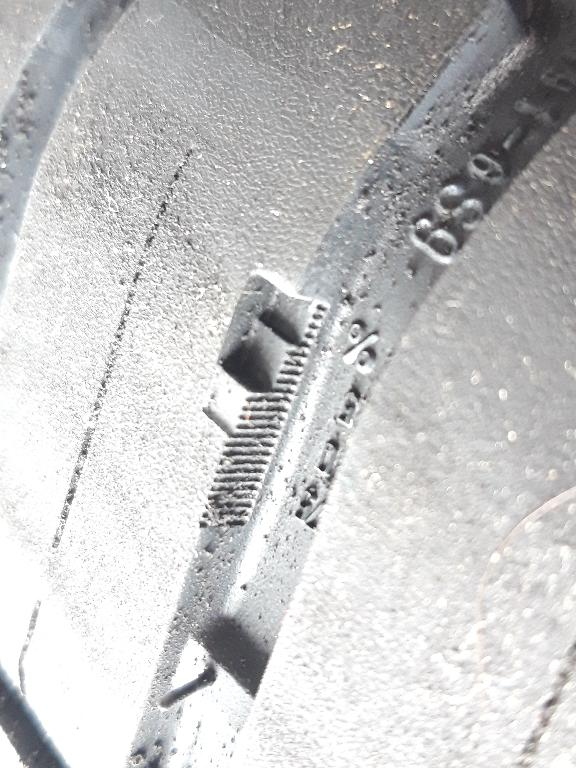temoin:50: (193, 262, 337, 448)
